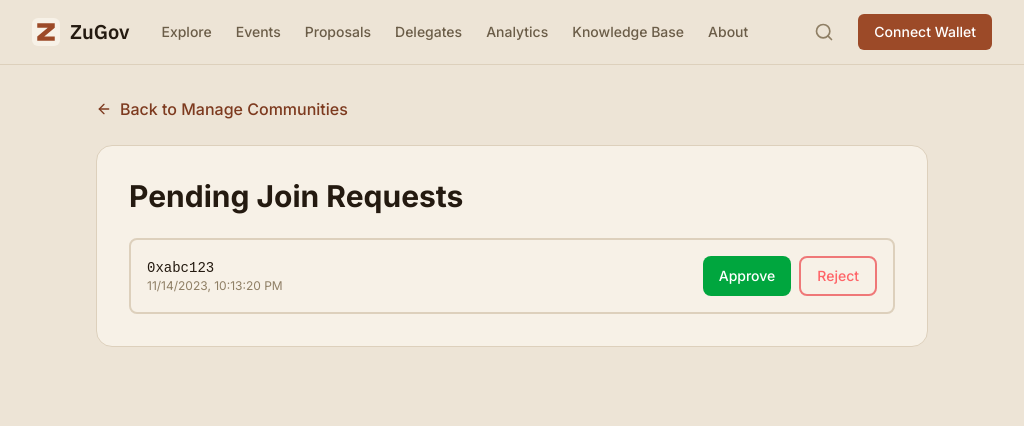
CommunityMembersPage › shows an error without signing out when approving fails with a non-auth error
Click the button "Approve". click: click(747, 276)
box: [703, 256, 791, 296]
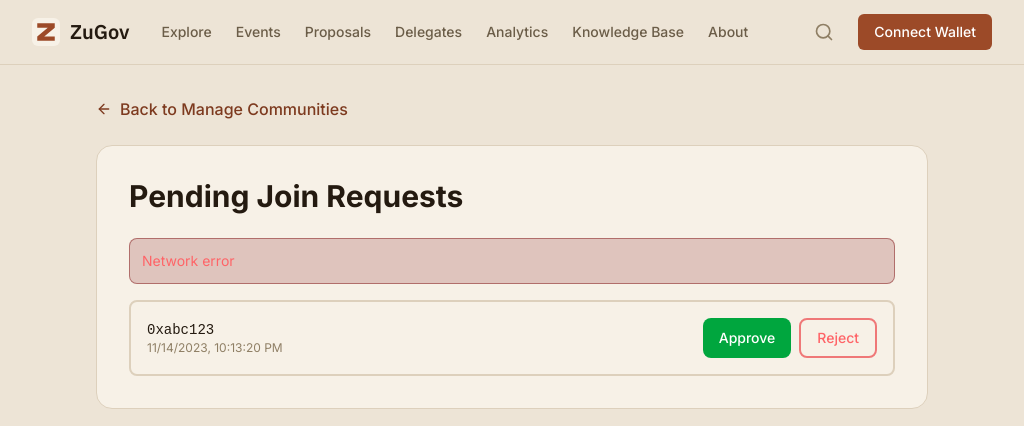
Now the text "Network error" is shown, box [129, 238, 895, 284]
